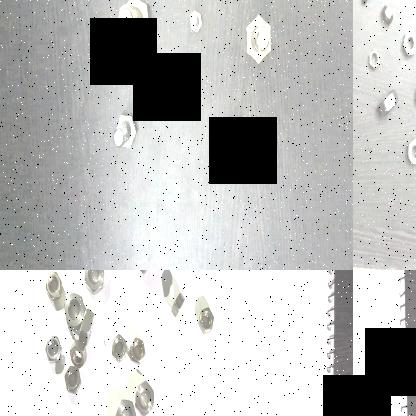Bolts: (112, 0, 155, 57), (111, 108, 141, 172), (188, 2, 206, 40)
NUTS: (62, 287, 86, 333), (192, 303, 216, 344), (132, 376, 156, 416), (75, 304, 96, 344), (376, 84, 398, 122), (43, 270, 65, 304), (108, 330, 128, 366), (127, 331, 148, 365), (79, 270, 106, 296), (43, 332, 63, 364), (166, 289, 186, 320), (60, 362, 82, 390), (68, 338, 86, 368), (364, 45, 380, 74), (402, 134, 416, 167), (113, 396, 135, 416), (402, 27, 416, 57), (380, 2, 393, 30)
